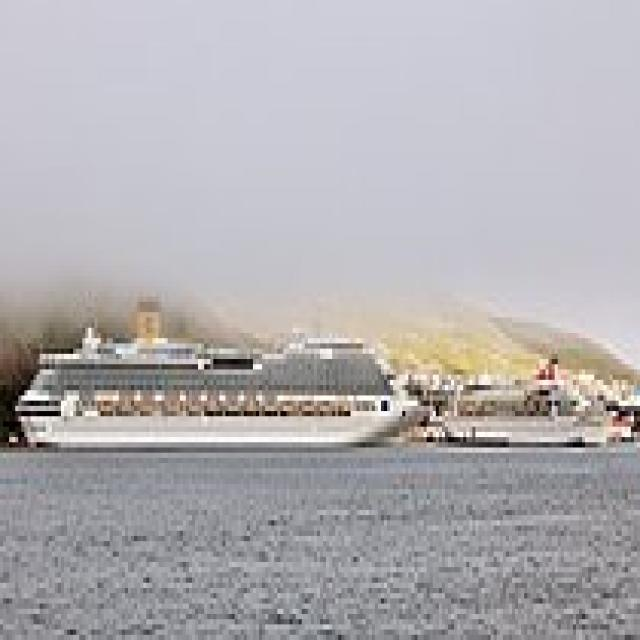Ship: (10, 303, 449, 475)
